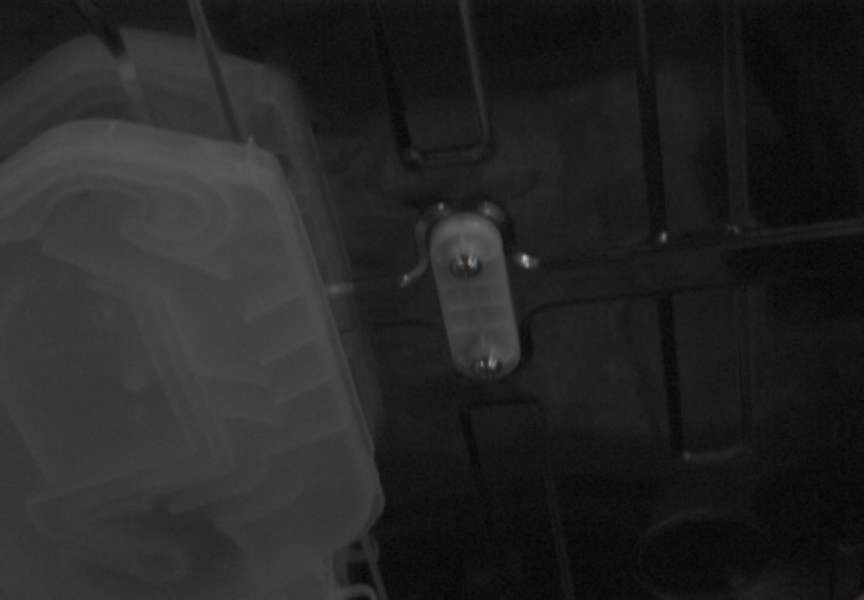screw: (450, 254, 482, 279), (472, 355, 503, 380)
